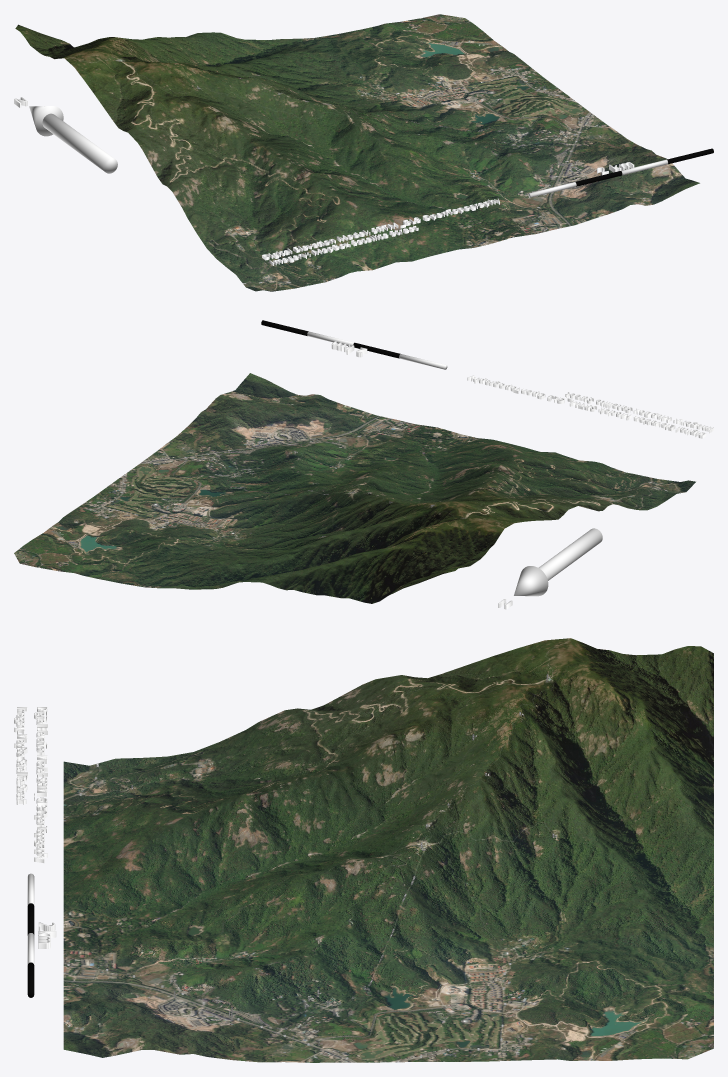
File: natural map.glb
3 views of the same model, one above another, from view 1: azimuth 30°, elevation 25°; view 2: azimuth 150°, elevation 25°; view 3: azimuth 270°, elevation 25° (orthographic). The views are drawn at different scales.
Parts seen in each view (by area): view 1: TerrainNode_0, Adornments_1; view 2: TerrainNode_0, Adornments_1; view 3: TerrainNode_0, Adornments_1.
Boxes of the visible parts, x1,y1,x2,y2 form: TerrainNode_0: (15, 14, 699, 291); Adornments_1: (14, 97, 713, 265); TerrainNode_0: (14, 373, 695, 603); Adornments_1: (261, 320, 713, 609); TerrainNode_0: (63, 638, 713, 1062); Adornments_1: (14, 707, 56, 997).
Size of the model in its own units: 5720 by 1196 by 5434.
2 materials, 1 textured.
